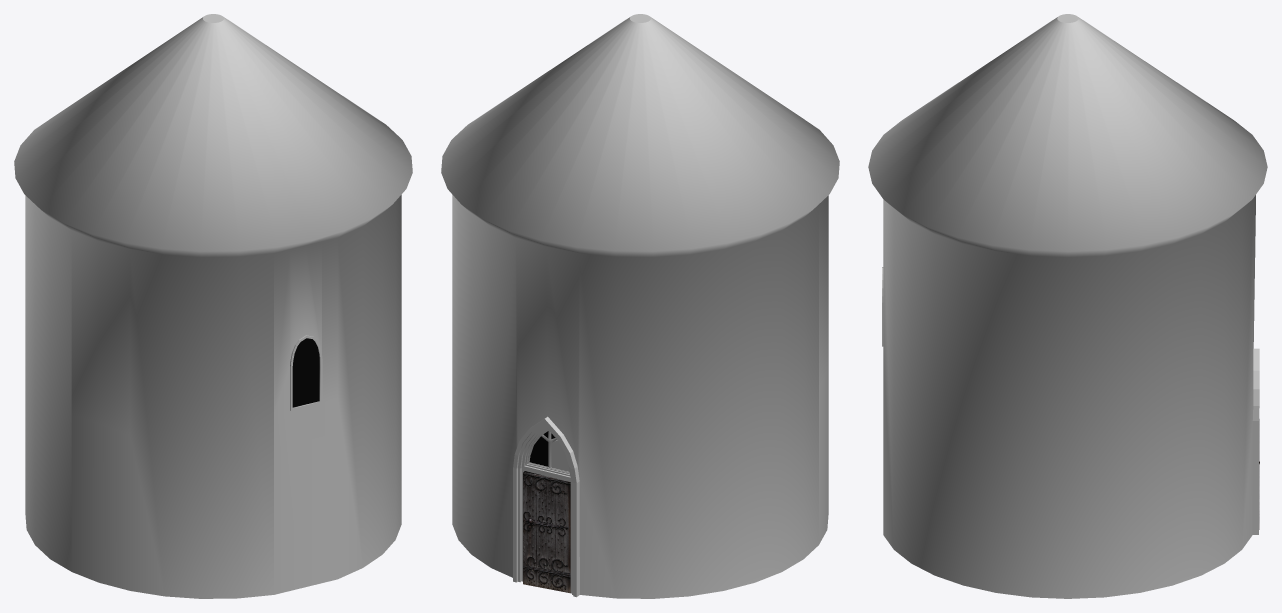
File: entrance.fbx
3 renders of one model, left to right at view 1: azimuth 30°, elevation 25°; view 2: azimuth 150°, elevation 25°; view 3: azimuth 270°, elevation 25°, orthographic.
Visible parts, largest first — view 1: rotunda; view 2: rotunda; view 3: rotunda.
Part boxes in pixels (box(x1,y1,x2,y2)): rotunda: box(14, 14, 412, 598); rotunda: box(441, 14, 839, 598); rotunda: box(868, 14, 1267, 598).
Bounding box in the file's own units: 636 × 636 × 880.
